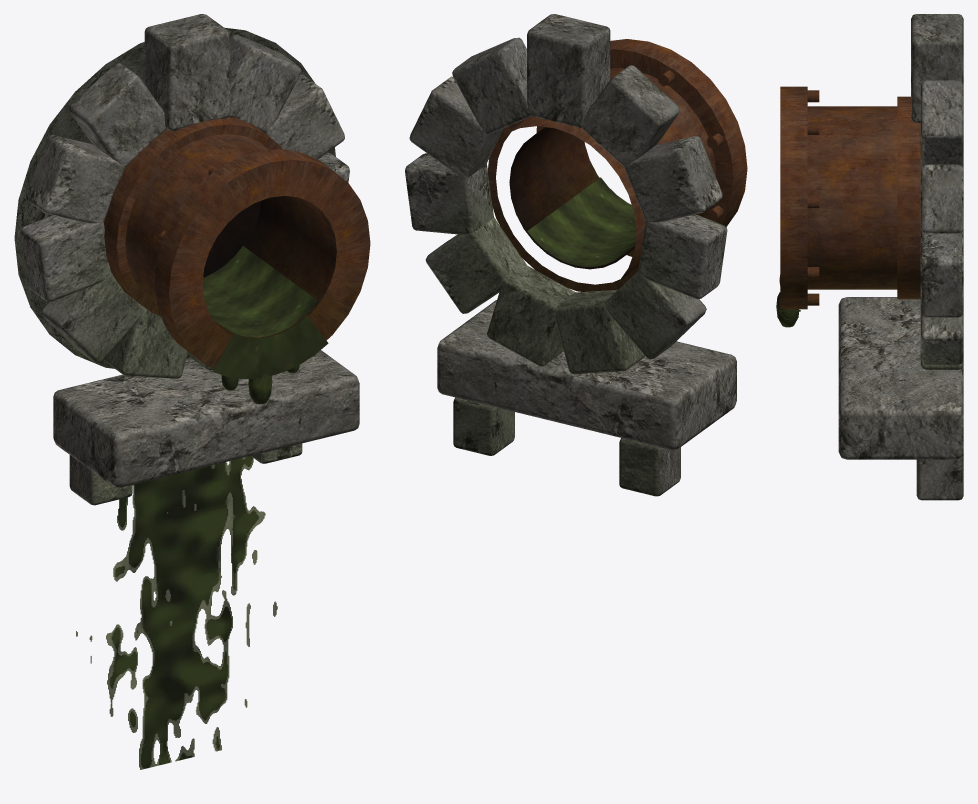
Rendered from prop_drainPipe.glb.
3 views of the same model, side by side, from view 1: azimuth 30°, elevation 25°; view 2: azimuth 150°, elevation 25°; view 3: azimuth 270°, elevation 25° (orthographic). The views are drawn at different scales.
Visible parts, largest first — view 1: prop; view 2: prop; view 3: prop.
Boxes of the visible parts, x1=… form: prop: x1=14, y1=14, x2=370, y2=769; prop: x1=405, y1=14, x2=747, y2=496; prop: x1=776, y1=14, x2=963, y2=500.
Size of what is drawn, in the model's own units: 0.91 by 2.01 by 0.48.
Materials: 4 (4 with a texture image).
